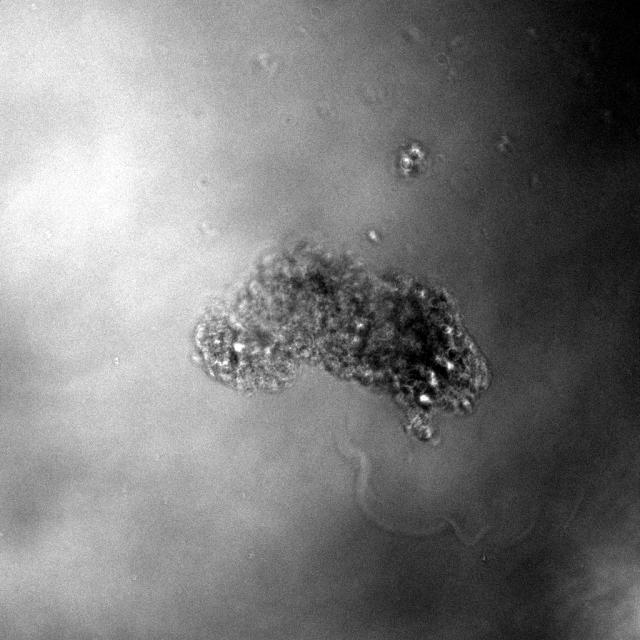organoid: (195, 243, 488, 440), (394, 140, 430, 177)
